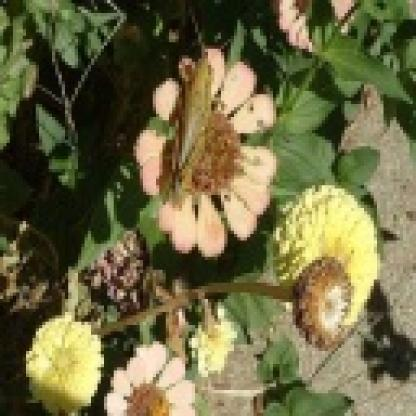grasshopper: (169, 39, 223, 167)
